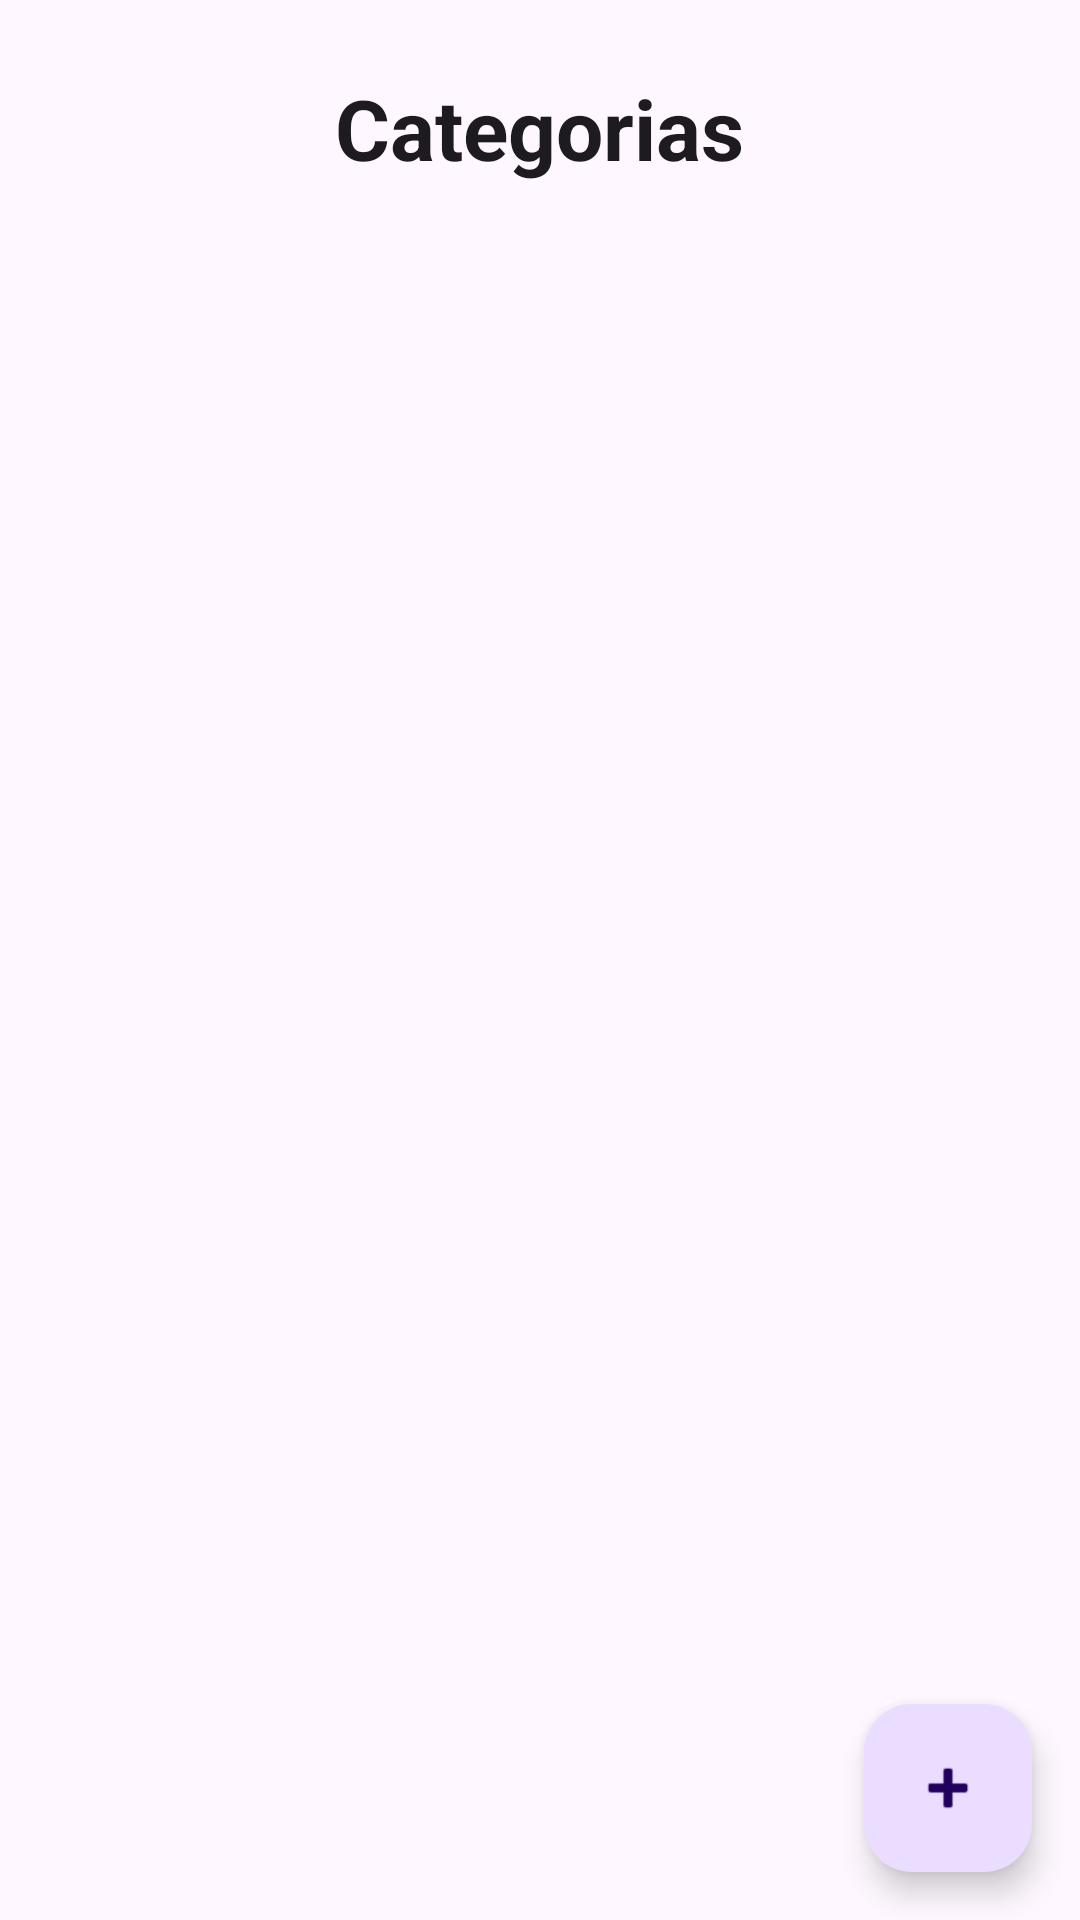

Icons on this 1080w x 1920h Android screen, each with the point to tap as (x=x, y=y):
Agregar categoria: (x=948, y=1788)
